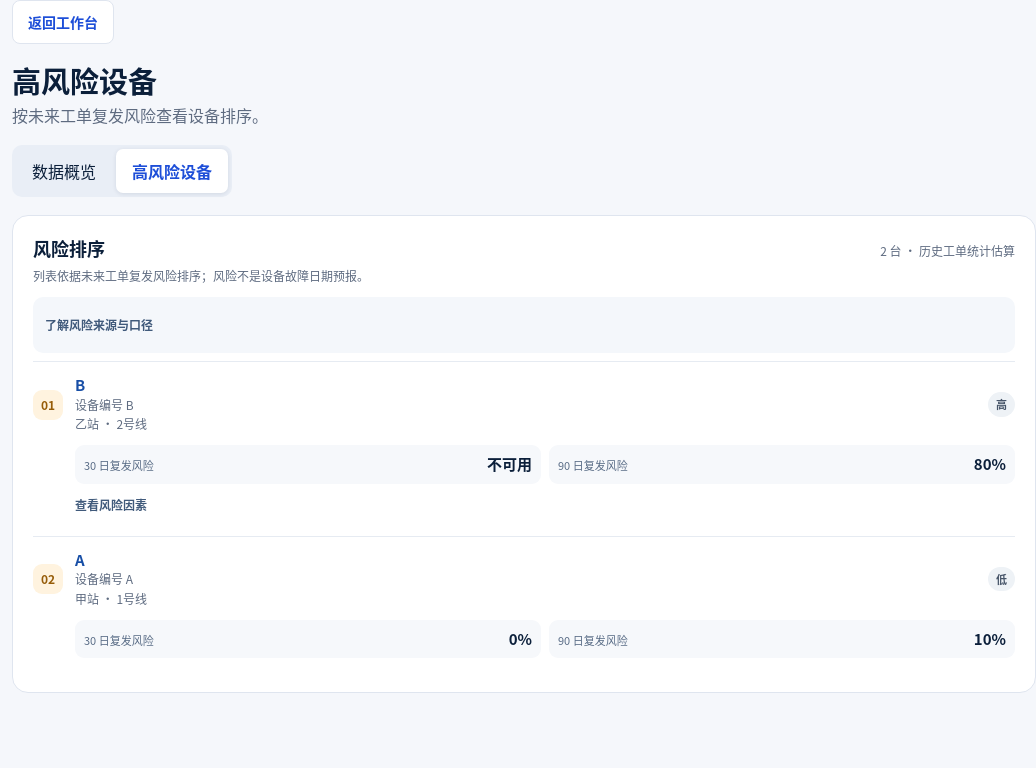
Scenario: high risk view preserves server order, shows a friendly source label and unavailable values
The image size is (1036, 768).
Expected: the text "2 台 · 历史工单统计估算" is shown, x1=880 y1=242 x2=1015 y2=260
Expected: the text "不可用" is shown, x1=487 y1=453 x2=532 y2=476
Click the button "数据概览" at [64, 171], box x1=16 y1=149 x2=112 y2=193
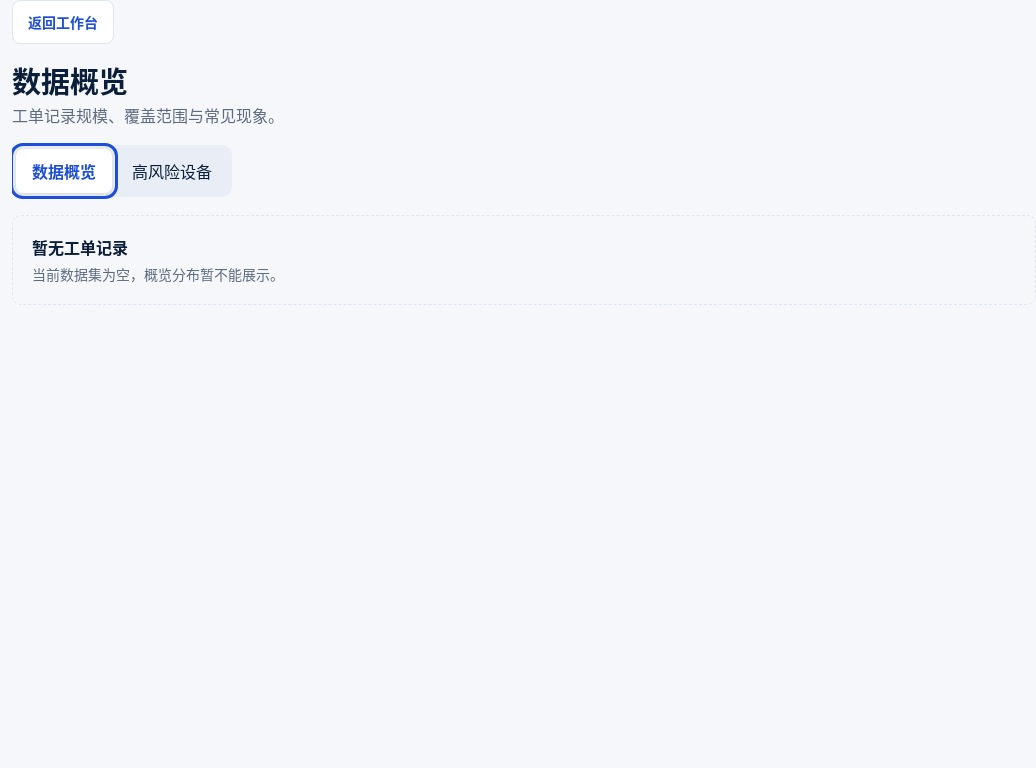
Now the text "暂无工单记录" is shown, box x1=32 y1=235 x2=128 y2=259
